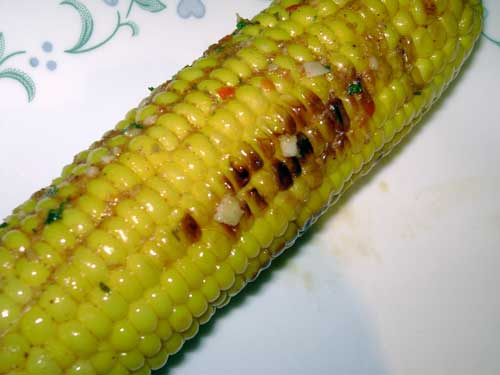corn: (0, 0, 483, 372)
